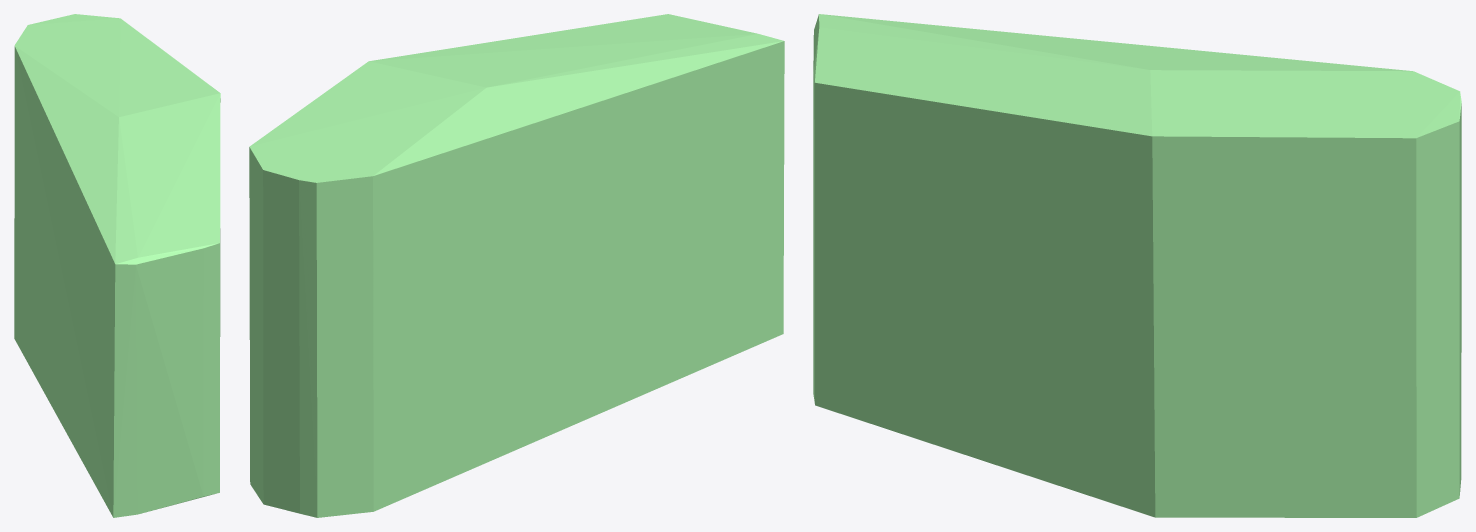
File: panda_leftFinger_coll_8.dae
3 views of the same model, side by side, from view 1: azimuth 30°, elevation 25°; view 2: azimuth 150°, elevation 25°; view 3: azimuth 270°, elevation 25° (orthographic). The views are drawn at different scales.
Visible parts, largest first — view 1: node; view 2: node; view 3: node.
Boxes of the visible parts, x1,y1,x2,y2 form: node: [14, 14, 220, 517]; node: [249, 14, 784, 517]; node: [813, 14, 1461, 517].
Size of the model in its own units: 0.0175 by 0.021 by 0.032.
